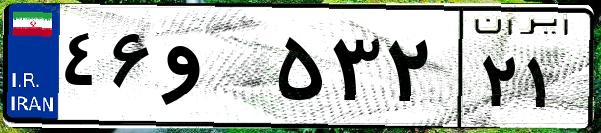1: (525, 38, 570, 115)
2: (385, 28, 445, 110), (475, 38, 525, 113)
3: (330, 28, 385, 110)
4: (57, 26, 110, 100)
5: (270, 28, 330, 110)
6: (110, 28, 158, 98)
و: (158, 20, 270, 120)
